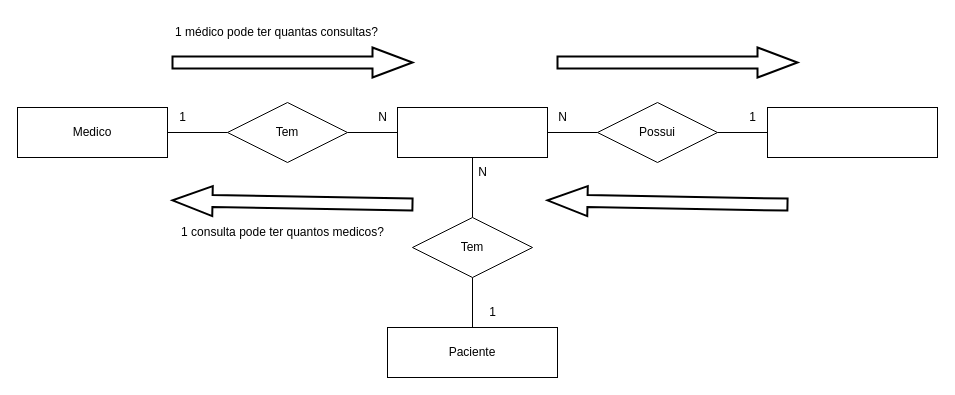
Image size: 955x395. Some labels were removed from this diagram. The shapes that lost their labels are listed below. From the top down, each one's box as (x1, y1, x2, y2) in pixels, then its label:
(396, 106, 548, 158): Consulta
(766, 106, 938, 158): Clinica
